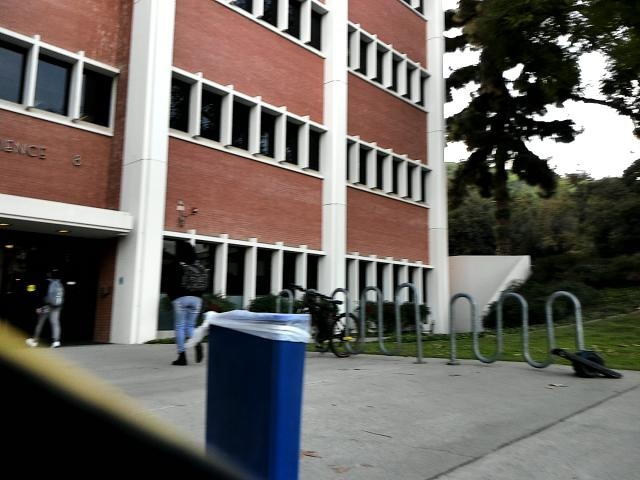trashcan_open: (195, 306, 311, 480)
